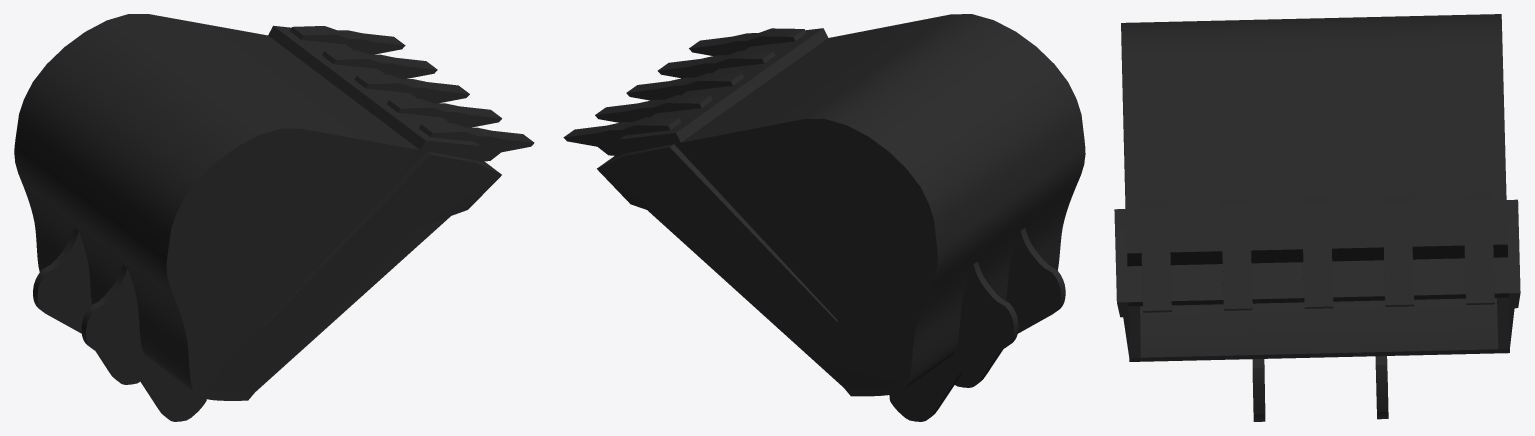
The model's file is zx200-bucket.dae.
The picture shows the model from 3 angles, left to right: view 1: azimuth 30°, elevation 25°; view 2: azimuth 150°, elevation 25°; view 3: azimuth 270°, elevation 25°; orthographic projection. The views are drawn at different scales.
Visible parts, largest first — view 1: bucket; view 2: bucket; view 3: bucket.
Boxes of the visible parts, x1,y1,x2,y2 form: bucket: (14, 14, 534, 421); bucket: (563, 14, 1085, 421); bucket: (1114, 14, 1520, 421).
Size of the model in its own units: 1.66 by 1.13 by 1.27.
Materials: 1 (1 with a texture image).
